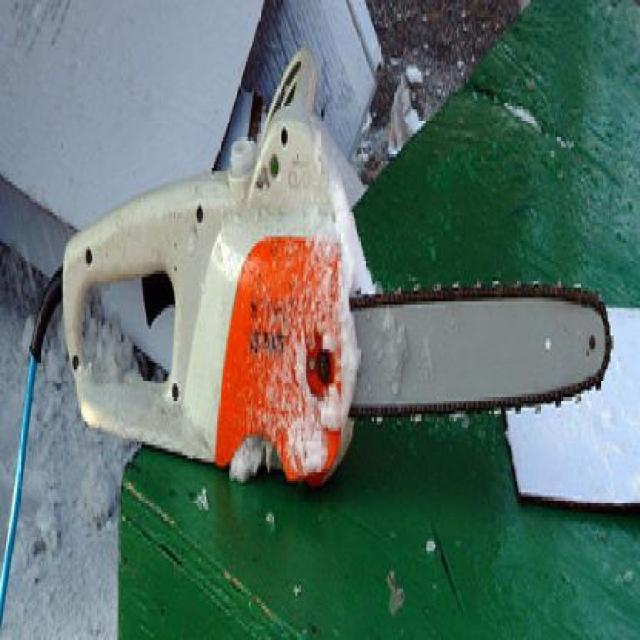Chainsaw: (61, 42, 613, 486)
